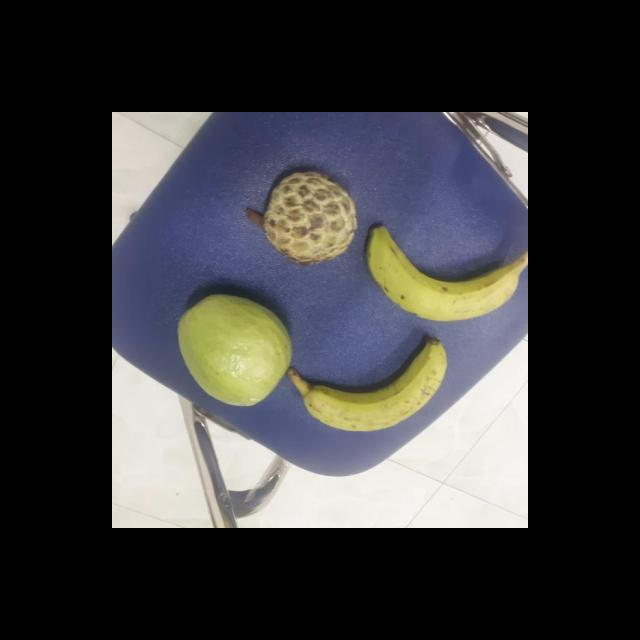Sakya fruit: (247, 170, 356, 266)
banana: (365, 221, 528, 322), (287, 336, 444, 430)
guava: (174, 294, 292, 402)
